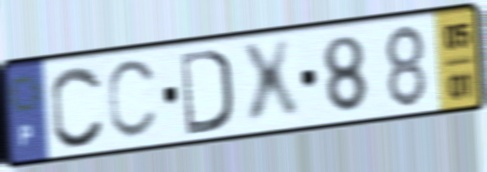8: (318, 33, 373, 115), (381, 21, 430, 111)
C: (48, 62, 108, 151), (105, 55, 161, 144)
D: (177, 45, 235, 138)
X: (236, 35, 304, 131)
